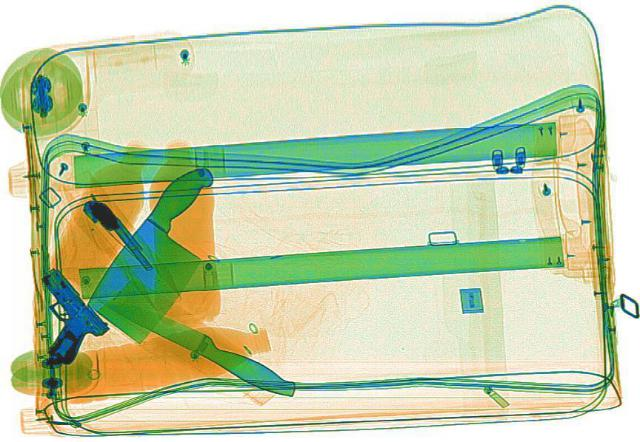Gun: (0, 271, 125, 362), (75, 195, 167, 271)
Knife: (69, 159, 251, 344), (87, 288, 306, 399)
